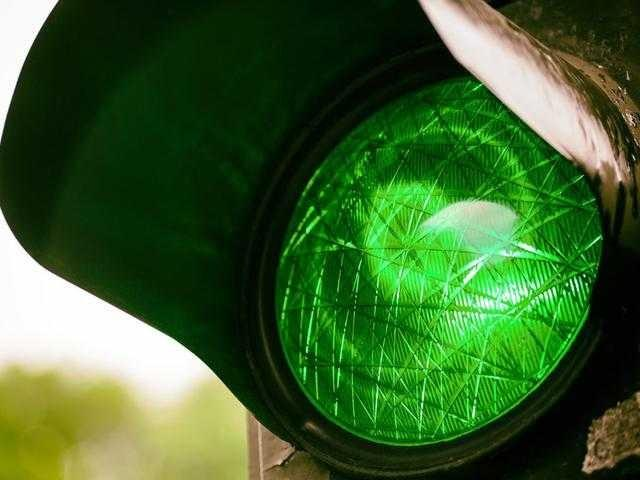green: (225, 35, 632, 465)
